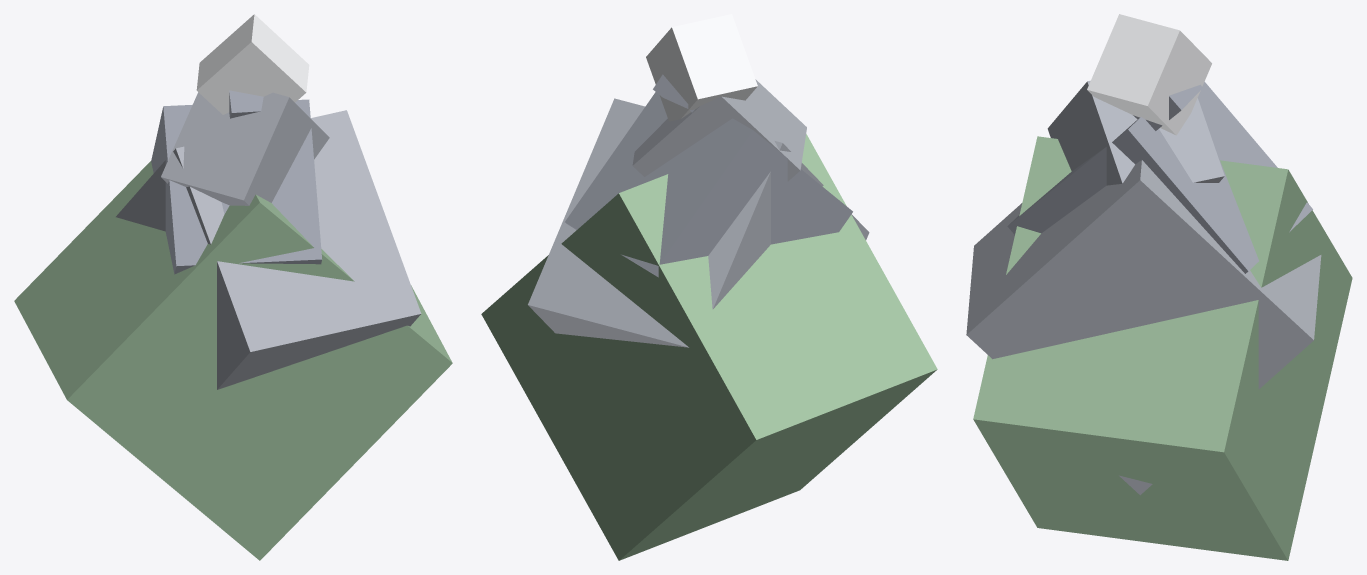
File: SnowMountain.glb
3 renders of one model, left to right at view 1: azimuth 30°, elevation 25°; view 2: azimuth 150°, elevation 25°; view 3: azimuth 270°, elevation 25°, orthographic. The views are drawn at different scales.
Parts seen in each view (by area): view 1: SnowMountain_1, SnowMountain_2, SnowMountain_0, SnowMountain_3; view 2: SnowMountain_1, SnowMountain_2, SnowMountain_0, SnowMountain_3; view 3: SnowMountain_1, SnowMountain_2, SnowMountain_0, SnowMountain_3.
Part boxes in pixels (x1,y1,x2,y2): SnowMountain_1: (14, 161, 452, 560); SnowMountain_2: (116, 92, 421, 389); SnowMountain_0: (151, 90, 322, 274); SnowMountain_3: (196, 14, 309, 114); SnowMountain_1: (481, 134, 937, 560); SnowMountain_2: (528, 79, 869, 347); SnowMountain_0: (565, 74, 852, 277); SnowMountain_3: (646, 14, 757, 121); SnowMountain_1: (973, 136, 1352, 560); SnowMountain_2: (966, 80, 1321, 495); SnowMountain_0: (1007, 81, 1312, 273); SnowMountain_3: (1087, 14, 1211, 135).
Bounding box in the file's own units: 139 × 165 × 109.
